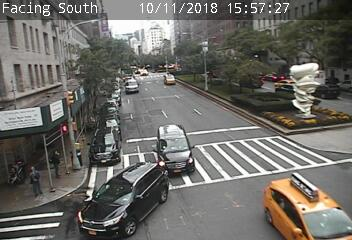car: (77, 162, 167, 235), (264, 178, 351, 240), (158, 125, 194, 175), (125, 80, 139, 93), (163, 74, 174, 85)
